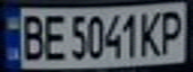0: (84, 11, 106, 61)
1: (121, 9, 142, 58)
4: (103, 10, 124, 60)
5: (66, 11, 87, 61)
B: (15, 10, 48, 62)
E: (39, 11, 69, 62)
K: (136, 8, 166, 57)
P: (157, 6, 190, 56)
